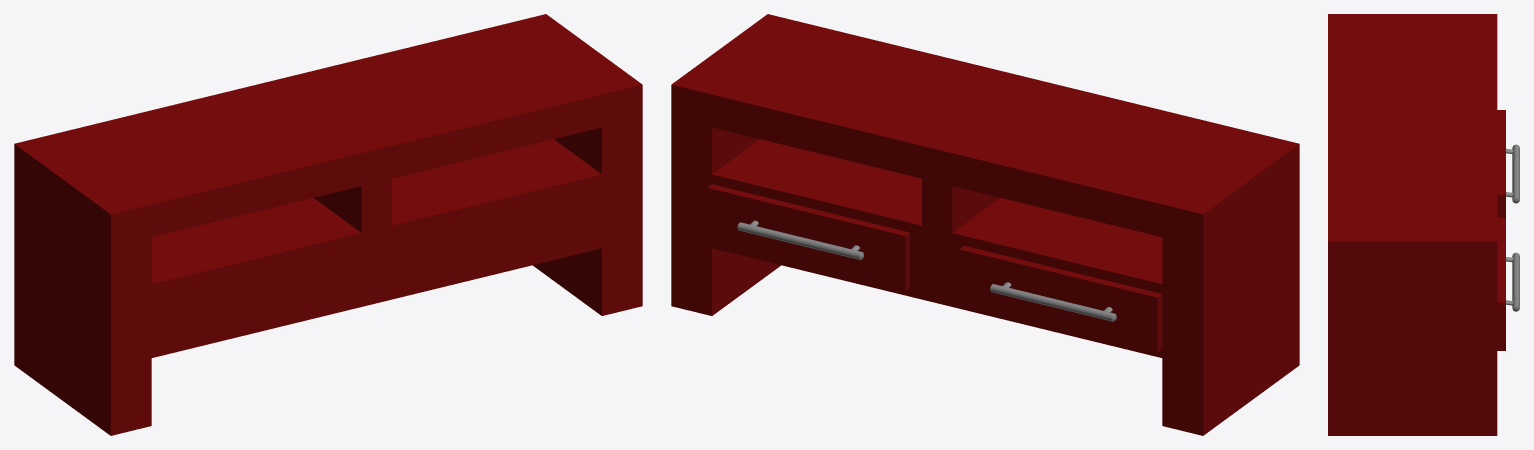
The model's file is MeubleTV_7.fbx.
3 views of the same model, side by side, from view 1: azimuth 30°, elevation 25°; view 2: azimuth 150°, elevation 25°; view 3: azimuth 270°, elevation 25° (orthographic). The views are drawn at different scales.
Parts seen in each view (by area): view 1: pCube2453; view 2: pCube2453, pCube2455, pCube2454, pCylinder1565, pCylinder1700; view 3: pCube2453, pCube2454, pCube2455, pCylinder1565, pCylinder1700.
Part boxes in pixels (box(x1,y1,x2,y2)): pCube2453: box(14, 14, 642, 435); pCube2453: box(671, 14, 1299, 435); pCube2455: box(959, 246, 1162, 352); pCube2454: box(707, 184, 909, 290); pCylinder1565: box(990, 284, 1116, 321); pCylinder1700: box(737, 222, 863, 260); pCube2453: box(1328, 14, 1497, 435); pCube2454: box(1497, 218, 1505, 350); pCube2455: box(1497, 110, 1505, 217); pCylinder1565: box(1512, 144, 1519, 203); pCylinder1700: box(1512, 252, 1519, 311).
Bounding box in the file's own units: 86.34 × 34.37 × 30.74.
